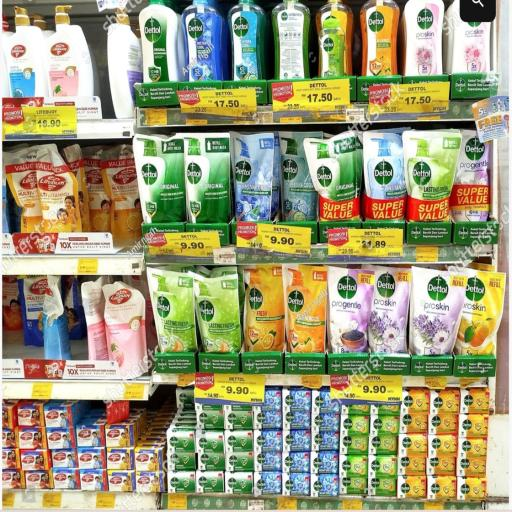lifebuoy: (19, 449, 48, 472), (106, 450, 131, 474), (77, 449, 102, 472), (16, 406, 42, 428), (18, 429, 44, 451), (75, 470, 106, 487), (107, 426, 127, 448), (135, 478, 159, 496), (48, 451, 74, 467), (26, 473, 50, 490), (46, 410, 66, 430), (136, 451, 156, 470), (55, 468, 74, 487), (109, 472, 128, 491), (1, 428, 16, 449), (1, 449, 16, 470), (0, 404, 13, 428), (49, 435, 74, 447), (78, 433, 101, 446)
